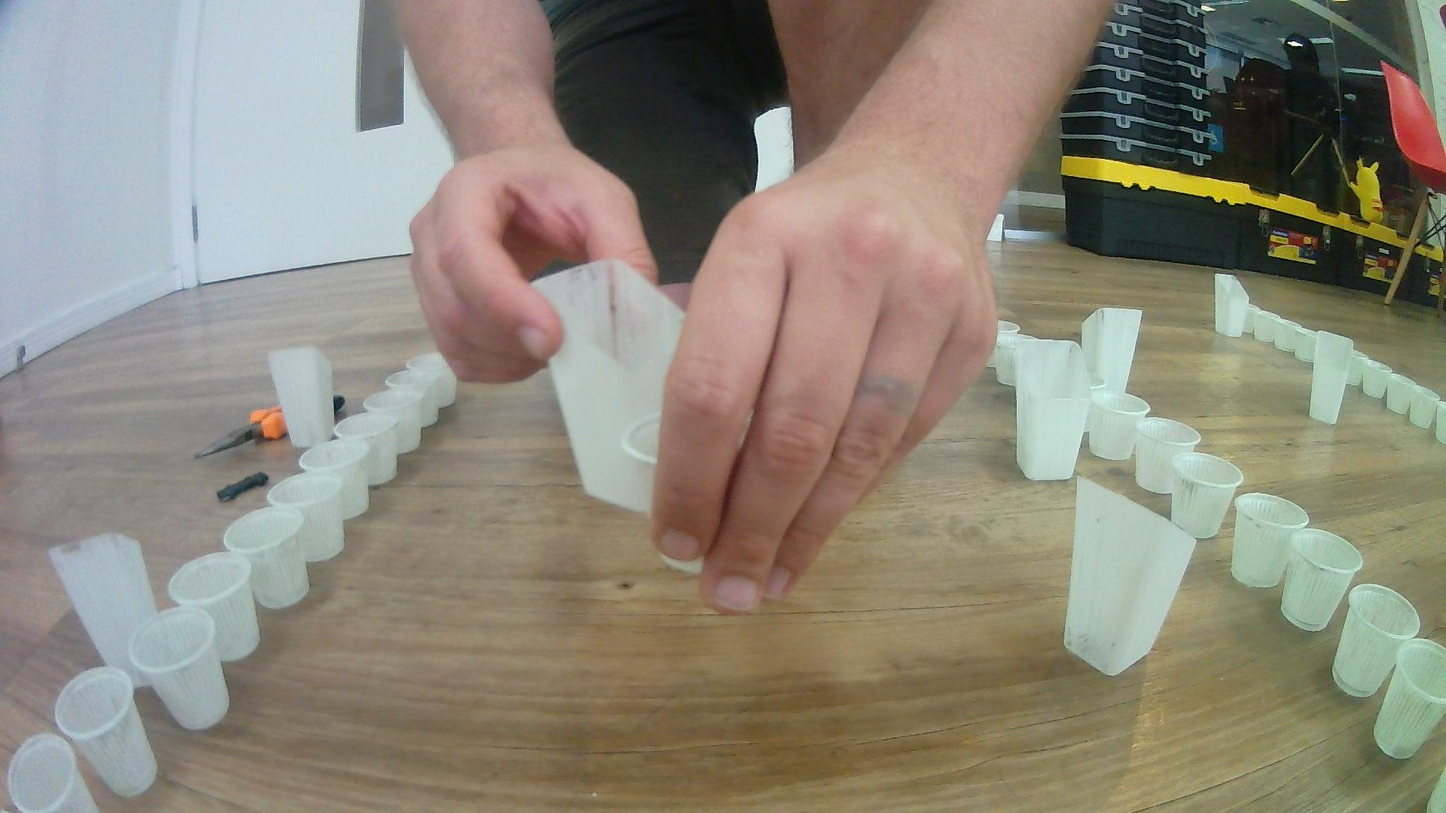erva_daninha: (532, 261, 690, 519), (1065, 475, 1197, 678), (48, 533, 160, 688), (1011, 340, 1093, 483), (269, 346, 338, 449), (1080, 305, 1142, 395), (1309, 329, 1355, 426), (1214, 273, 1251, 339)
planta: (621, 412, 709, 574), (54, 666, 160, 798), (129, 607, 230, 732), (167, 552, 261, 664), (1335, 585, 1423, 699), (223, 505, 313, 612), (1374, 638, 1446, 760), (1283, 528, 1364, 632), (5, 732, 104, 813), (1231, 492, 1310, 589), (267, 473, 346, 563), (1170, 452, 1247, 540), (299, 440, 371, 521), (1133, 417, 1202, 495), (334, 413, 399, 486), (1089, 393, 1152, 462), (362, 388, 423, 455), (385, 370, 440, 427), (404, 352, 457, 408), (994, 336, 1036, 386), (984, 321, 1022, 368), (1385, 373, 1420, 415), (1408, 387, 1442, 429), (1268, 318, 1302, 354), (1362, 361, 1393, 399), (1246, 309, 1275, 343), (1346, 350, 1370, 388), (1294, 327, 1318, 363), (1086, 375, 1106, 406), (1435, 403, 1446, 444)
